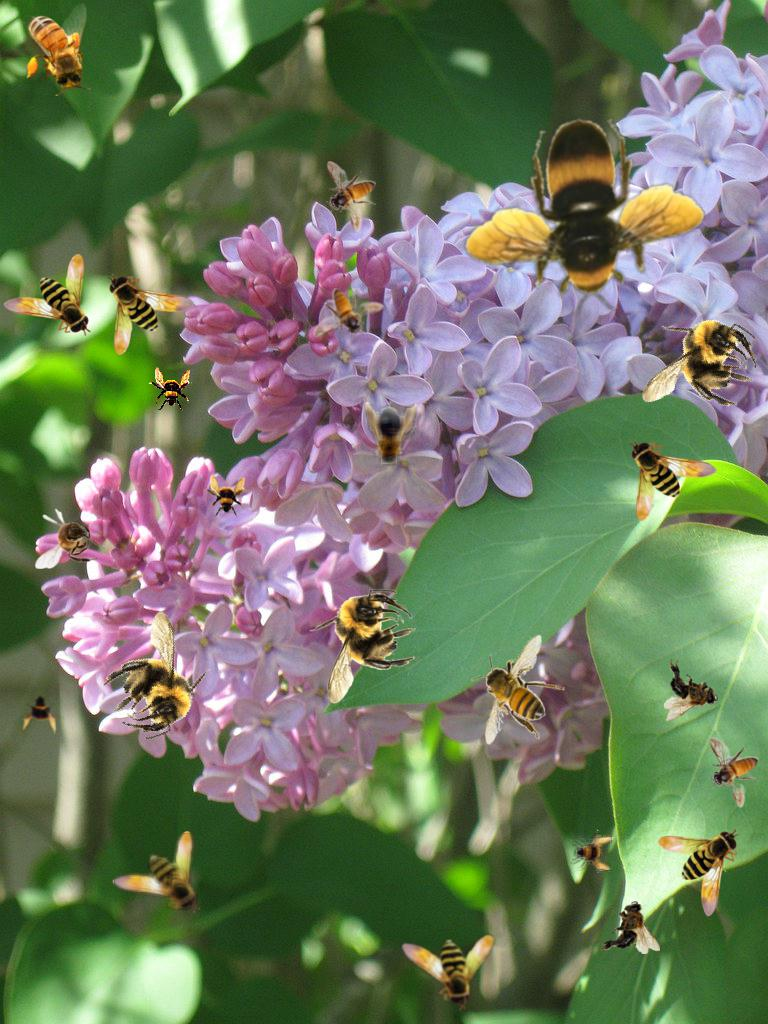Bee: (432, 79, 722, 362), (622, 290, 768, 445), (83, 601, 228, 750), (386, 900, 504, 1014), (309, 589, 416, 704), (471, 634, 565, 745), (3, 254, 91, 336), (658, 829, 740, 917), (629, 439, 717, 521), (112, 831, 200, 913), (107, 273, 195, 355), (23, 3, 91, 96), (35, 508, 105, 569), (663, 658, 720, 724), (313, 288, 384, 338), (709, 737, 759, 808), (326, 161, 376, 232), (365, 402, 417, 470), (598, 901, 660, 954), (570, 829, 614, 873), (148, 367, 192, 411), (20, 690, 64, 734), (203, 474, 247, 518)
